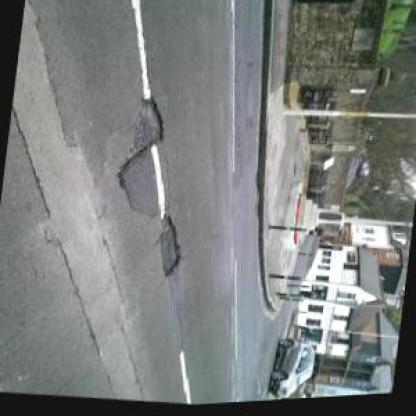pothole: (132, 96, 172, 155), (151, 219, 187, 283)
